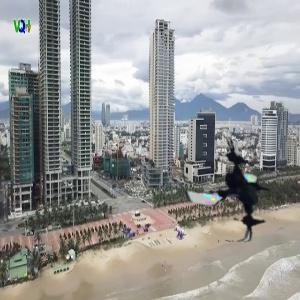drone: (181, 138, 287, 244)
